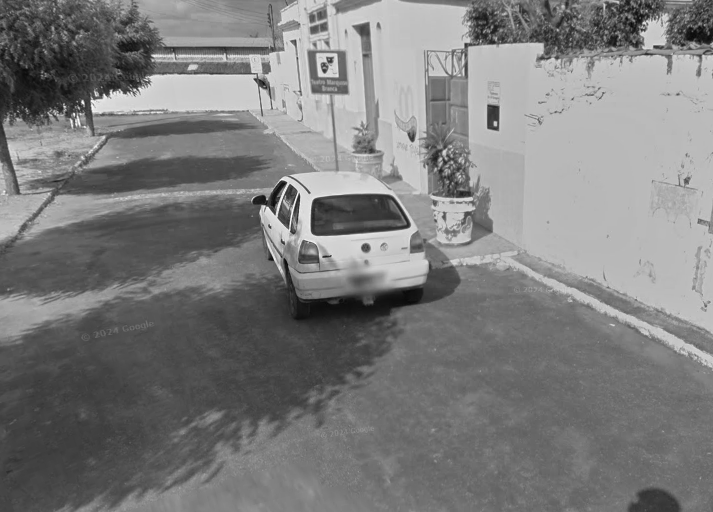car: (250, 168, 433, 324)
